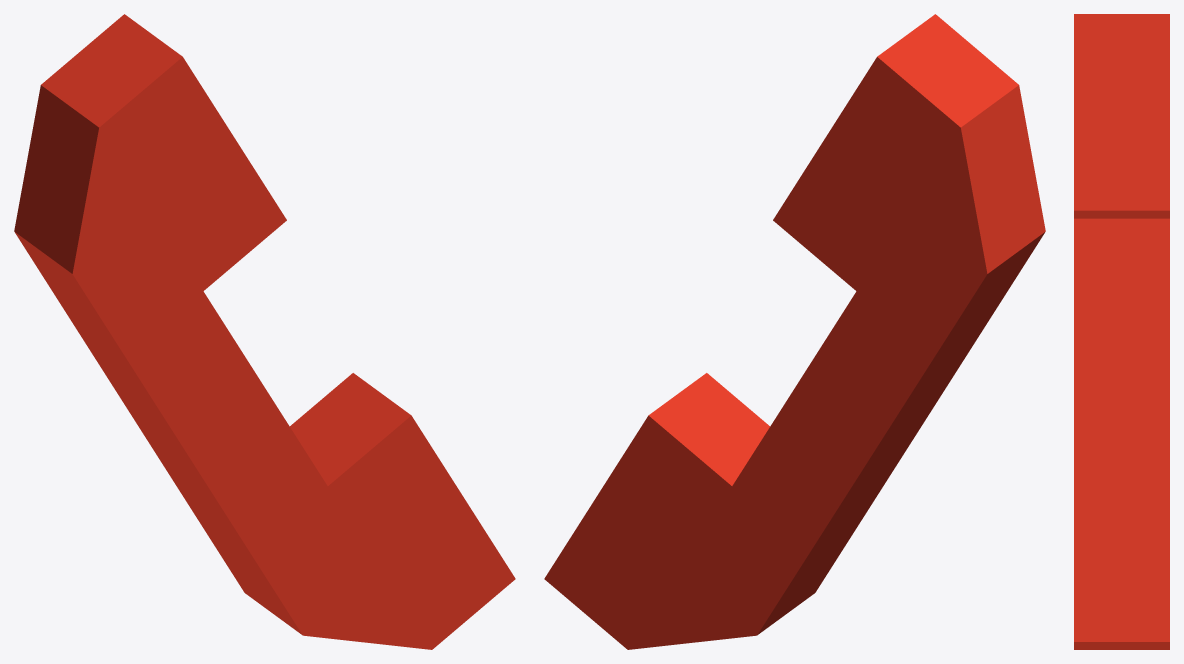
File: Icon_Handset.fbx
3 views of the same model, side by side, from view 1: azimuth 30°, elevation 25°; view 2: azimuth 150°, elevation 25°; view 3: azimuth 270°, elevation 25° (orthographic). The views are drawn at different scales.
Visible parts, largest first — view 1: Icon_Handset; view 2: Icon_Handset; view 3: Icon_Handset.
Part boxes in pixels (x1,y1,x2,y2): Icon_Handset: (14, 14, 515, 649); Icon_Handset: (544, 14, 1045, 649); Icon_Handset: (1074, 14, 1169, 649).
Size of the model in its own units: 52.9 by 74.59 by 12.06.
